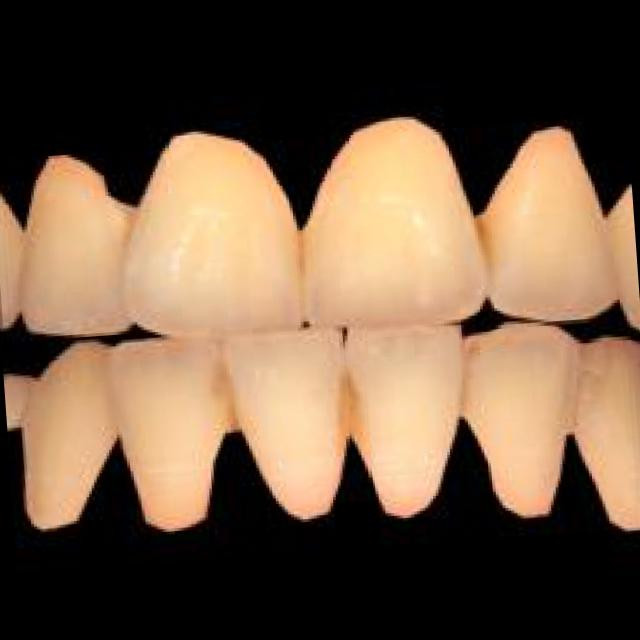cavity: (332, 362, 372, 444), (206, 362, 247, 428), (120, 200, 158, 254), (467, 207, 502, 264), (290, 224, 318, 288), (462, 343, 484, 410)
tooth: (286, 112, 483, 330), (121, 128, 300, 338), (476, 122, 620, 322), (220, 326, 368, 518), (469, 322, 592, 520), (352, 323, 479, 514), (104, 331, 222, 528), (10, 340, 126, 532), (22, 147, 135, 337), (575, 329, 640, 530)
